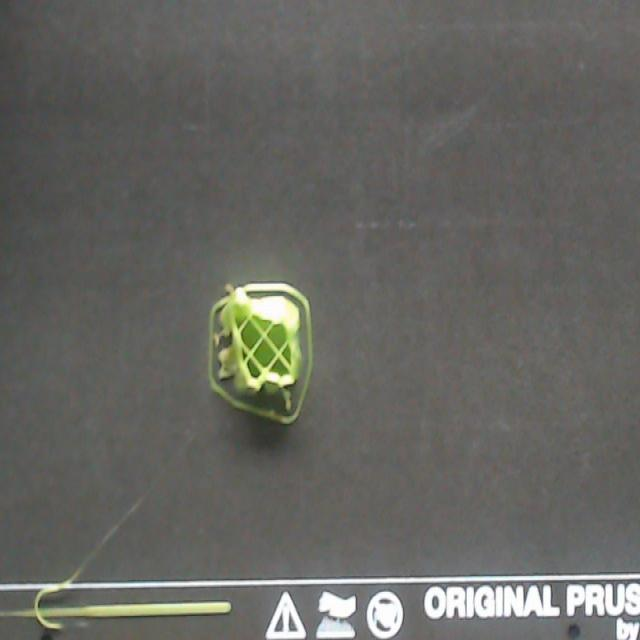mistake: (32, 501, 140, 629), (220, 350, 237, 375), (213, 333, 225, 345), (225, 285, 236, 295)
